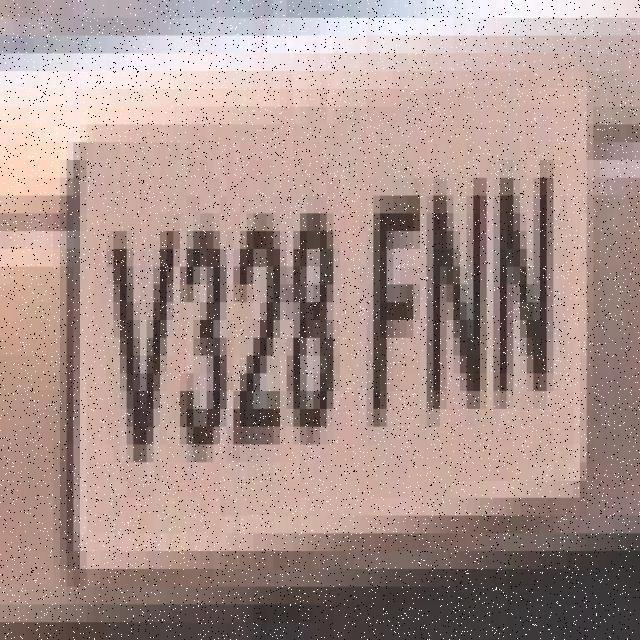LicensePlate: (57, 91, 624, 584)
